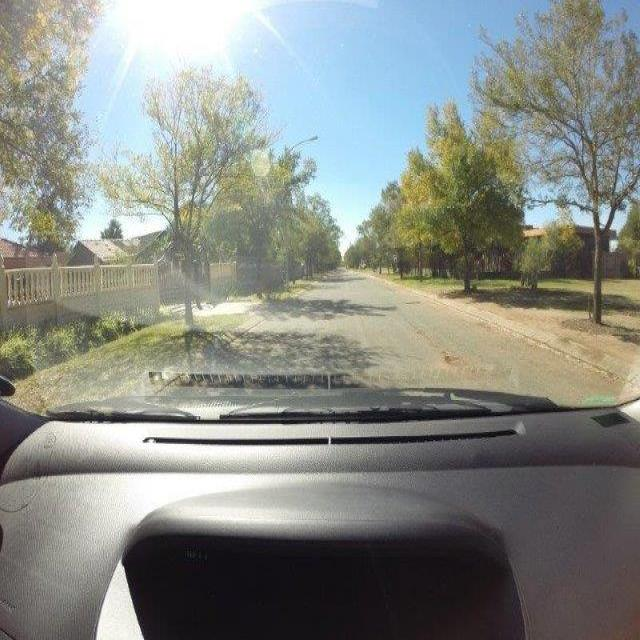lubang: (442, 348, 464, 369)
